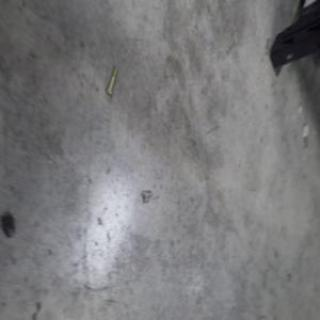Bolttrack_idkeyframe: (103, 65, 118, 99)
